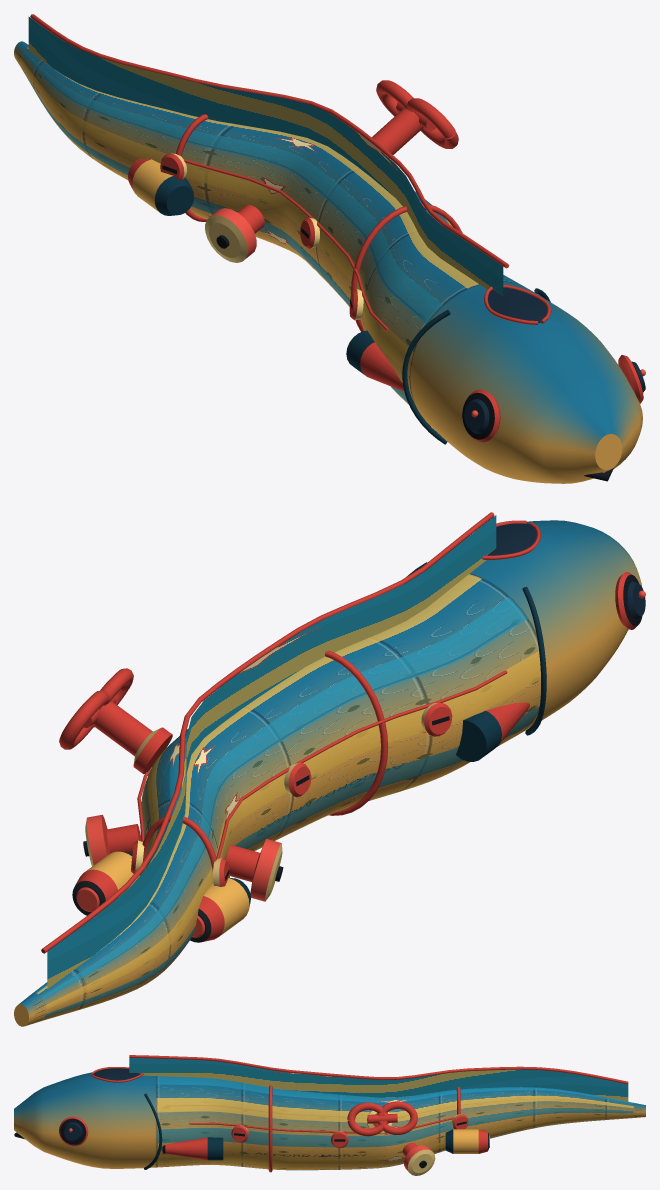
3 renders of one model, top to bottom at view 1: azimuth 30°, elevation 25°; view 2: azimuth 150°, elevation 25°; view 3: azimuth 270°, elevation 25°, orthographic. The views are drawn at different scales.
Visible parts, largest first — view 1: moray_hull; view 2: moray_hull; view 3: moray_hull.
Boxes of the visible parts, box(x1,y1,x2,y2) form: moray_hull: box(14, 14, 645, 483); moray_hull: box(14, 512, 645, 1026); moray_hull: box(14, 1055, 645, 1175).
Size of the model in its own units: 10.38 by 7.97 by 42.
Materials: 1 (1 with a texture image).
